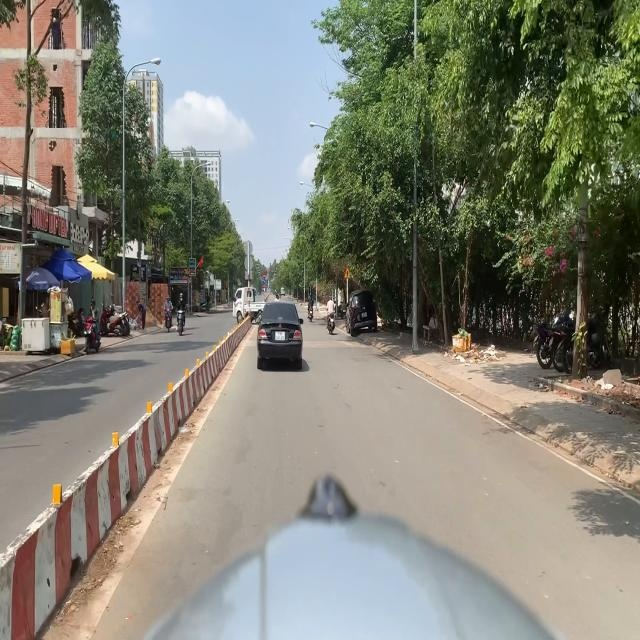bien_hieu_lenh: (344, 267, 351, 279), (262, 279, 266, 284), (263, 272, 266, 278)
